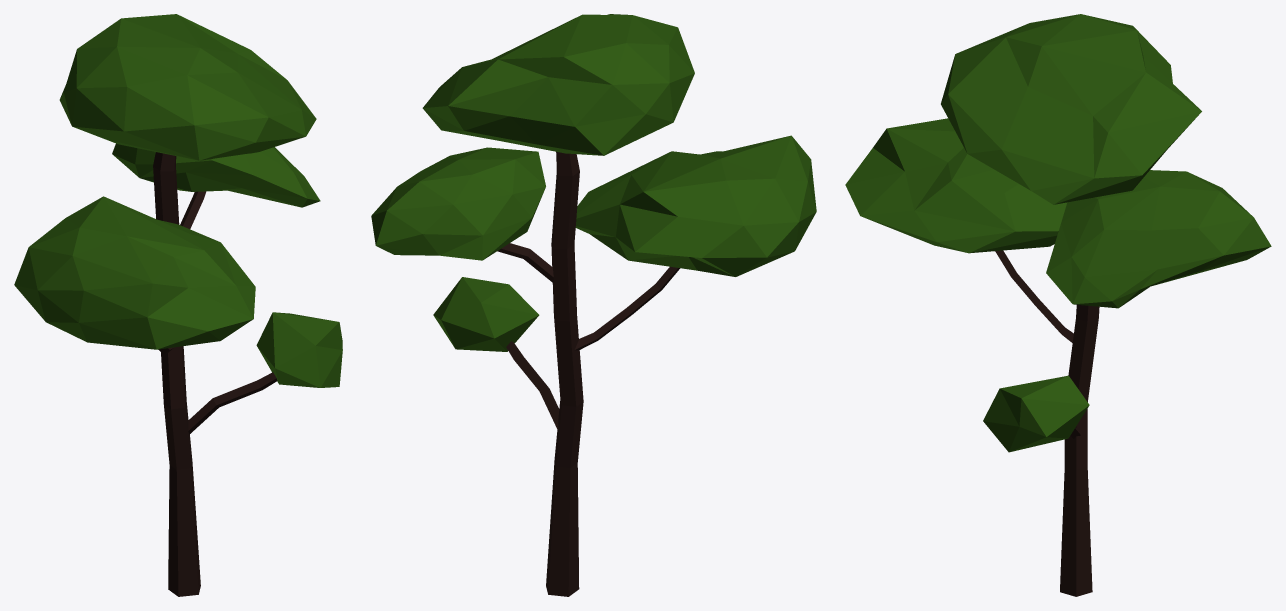
Rendered from SM_tree_c_04.FBX.
3 renders of one model, left to right at view 1: azimuth 30°, elevation 25°; view 2: azimuth 150°, elevation 25°; view 3: azimuth 270°, elevation 25°, orthographic. The views are drawn at different scales.
Visible parts, largest first — view 1: Object038; view 2: Object038; view 3: Object038.
Part boxes in pixels (bbox=[...]): Object038: bbox=[14, 14, 342, 596]; Object038: bbox=[371, 14, 816, 596]; Object038: bbox=[845, 14, 1271, 596].
Bounding box in the file's own units: 421 × 675 × 479.
